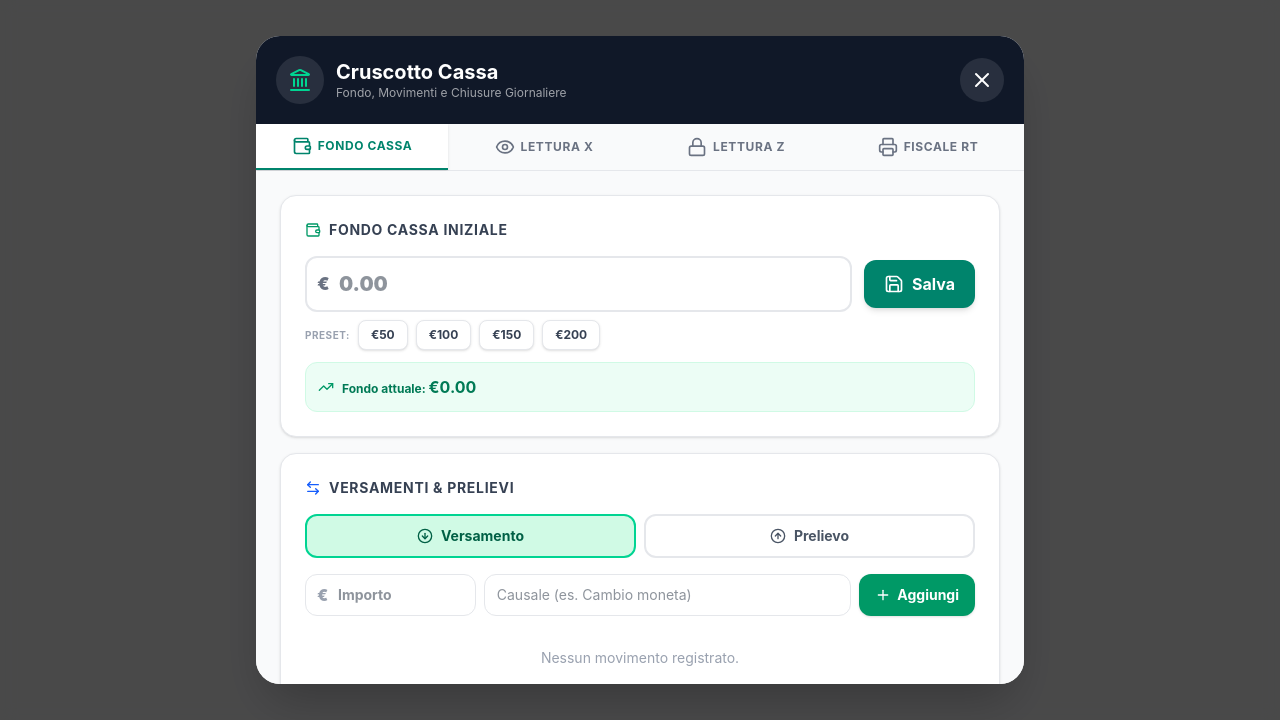
CassaDashboard — RT status renders placeholder for absent fields › renders "–" (not "No") for absent RT-specific fields
The width and height of the screenshot is (1280, 720).
Step 1. Click the button "Fiscale RT" → (928, 147), box [832,124,1024,170]
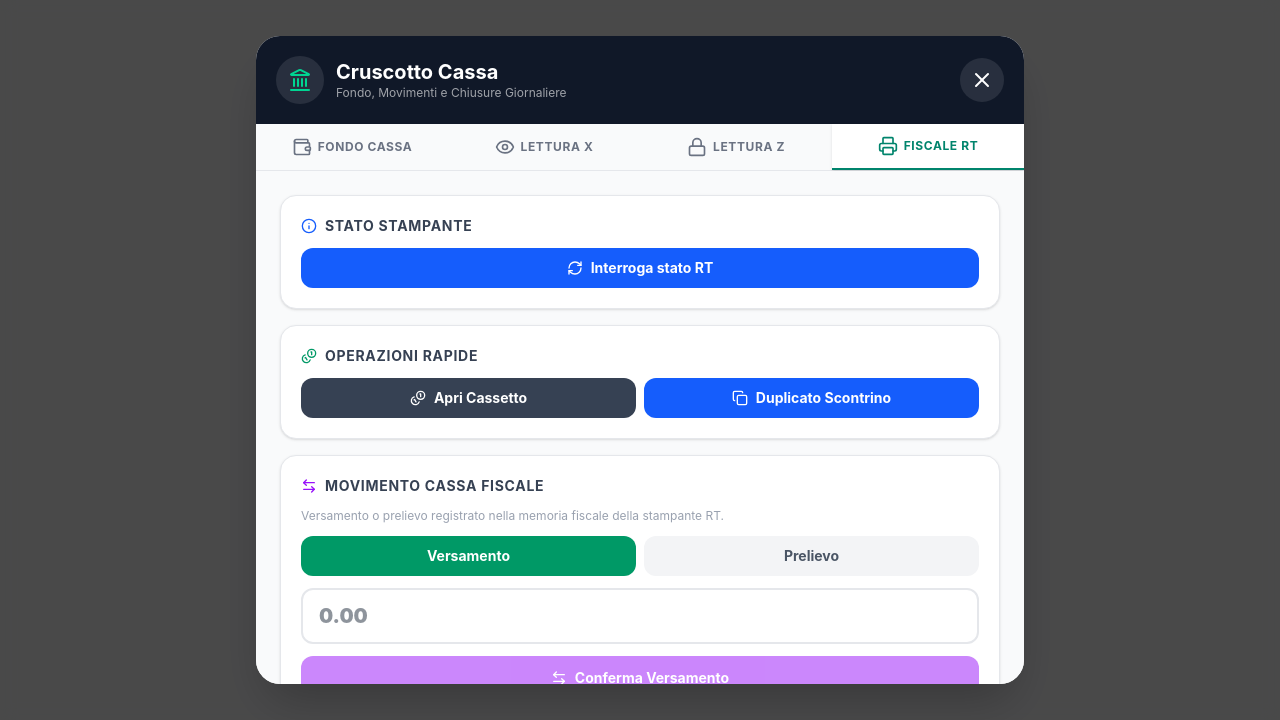
Check: the button "Interroga stato RT" is shown
Step 2. Click the button "Interroga stato RT" → (640, 268), box [301,248,979,288]
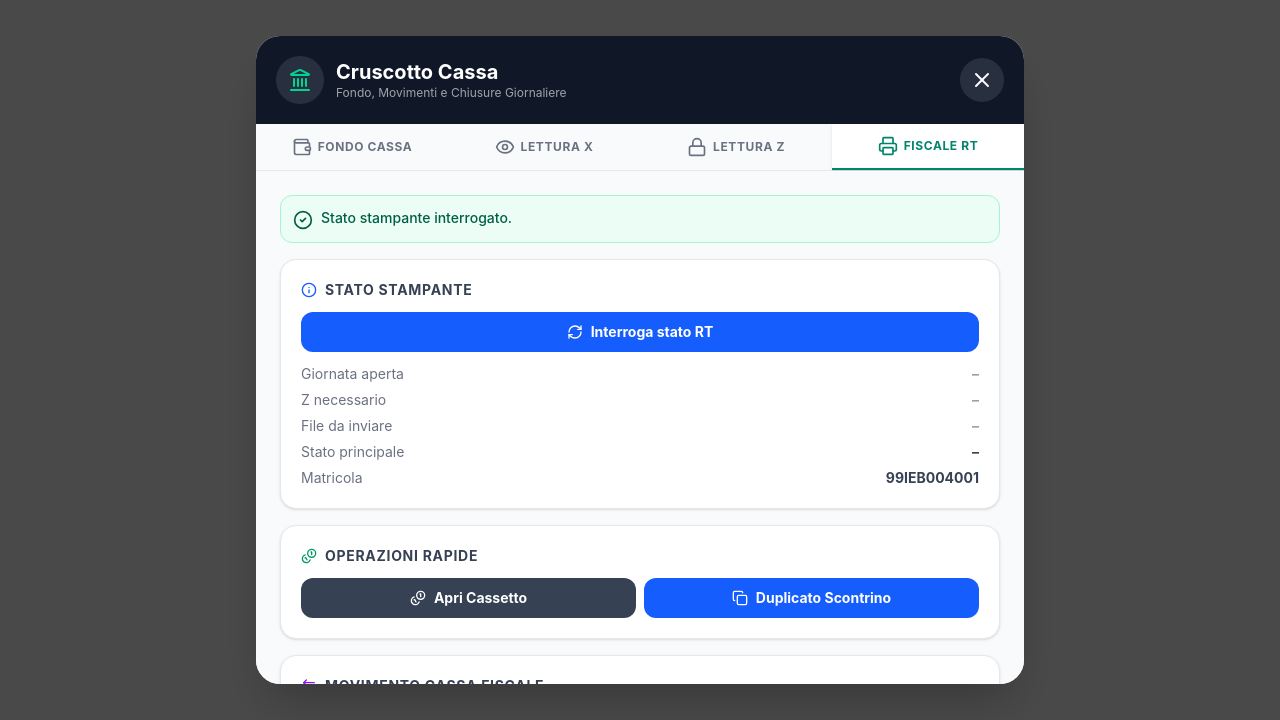
Check: the text "Giornata aperta" is shown, box [301,364,404,384]
Check: the text "Z necessario" is shown, box [301,390,386,410]
Check: the text "File da inviare" is shown, box [301,416,392,436]
